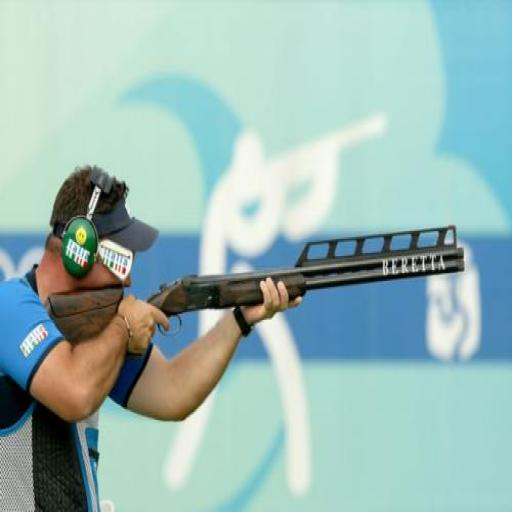shooting: (0, 161, 305, 510)
